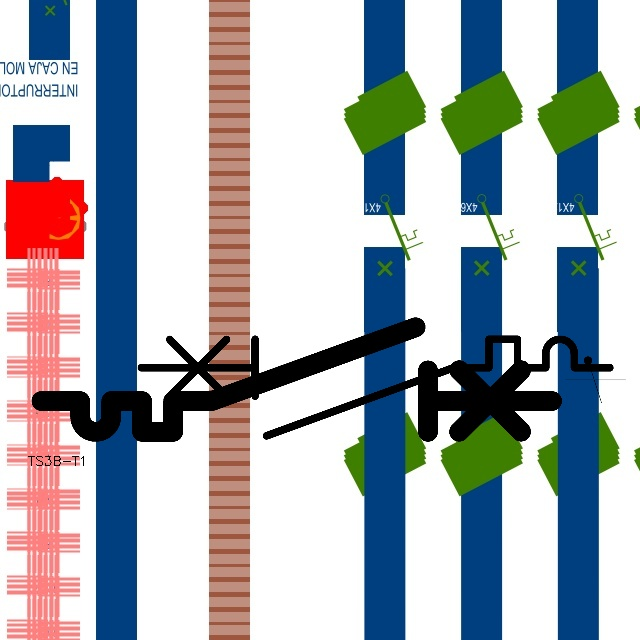interruptor_termomagnetico: (28, 314, 565, 445), (129, 327, 622, 447)
